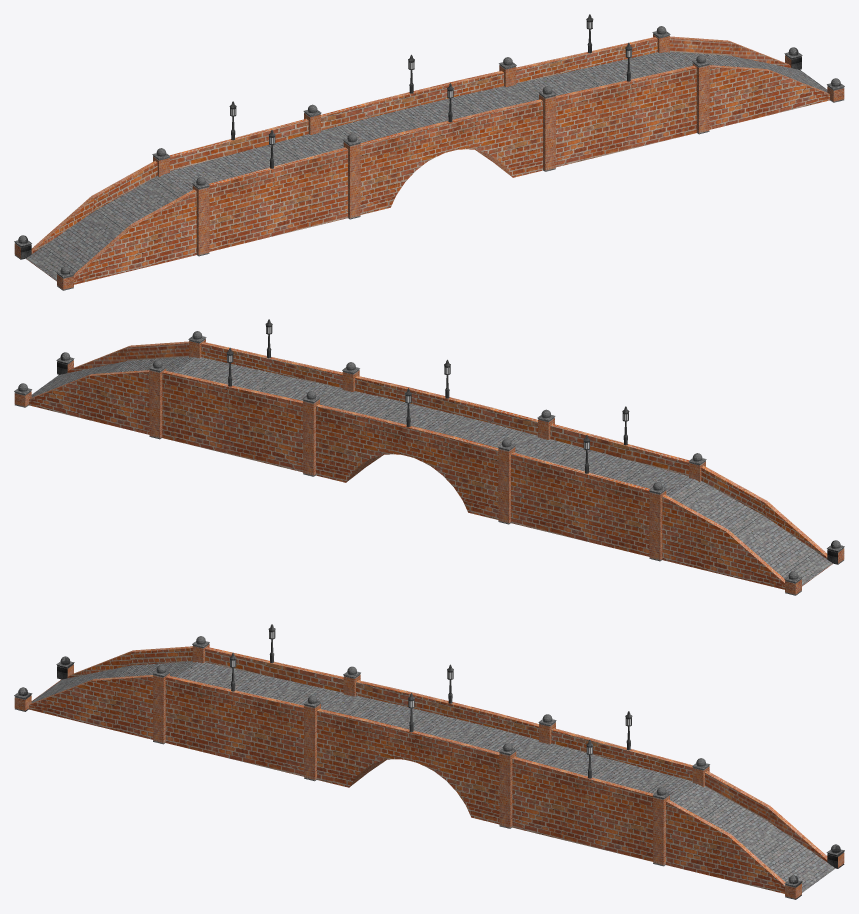
Rendered from Passage.fbx.
3 renders of one model, top to bottom at view 1: azimuth 30°, elevation 25°; view 2: azimuth 150°, elevation 25°; view 3: azimuth 330°, elevation 25°, orthographic.
Visible parts, largest first — view 1: Passage_LOD0; view 2: Passage_LOD0; view 3: Passage_LOD0.
Boxes of the visible parts, <box> form: Passage_LOD0: <box>14,14,844,290</box>; Passage_LOD0: <box>14,319,844,595</box>; Passage_LOD0: <box>14,624,844,899</box>.
Size of what is drawn, in the model's own units: 24224 by 3213 by 2629.
